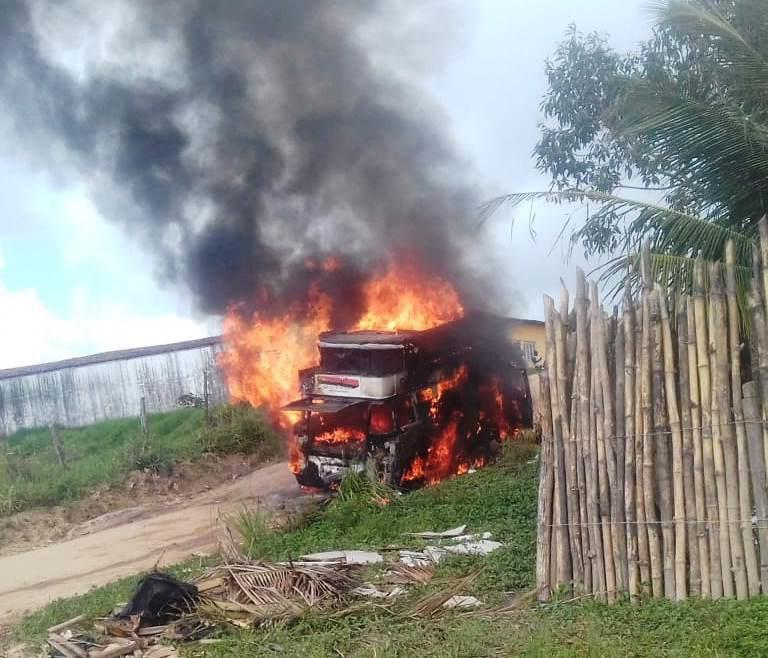Fire: (226, 294, 336, 428), (353, 257, 460, 331), (409, 418, 462, 488), (315, 427, 364, 447)
